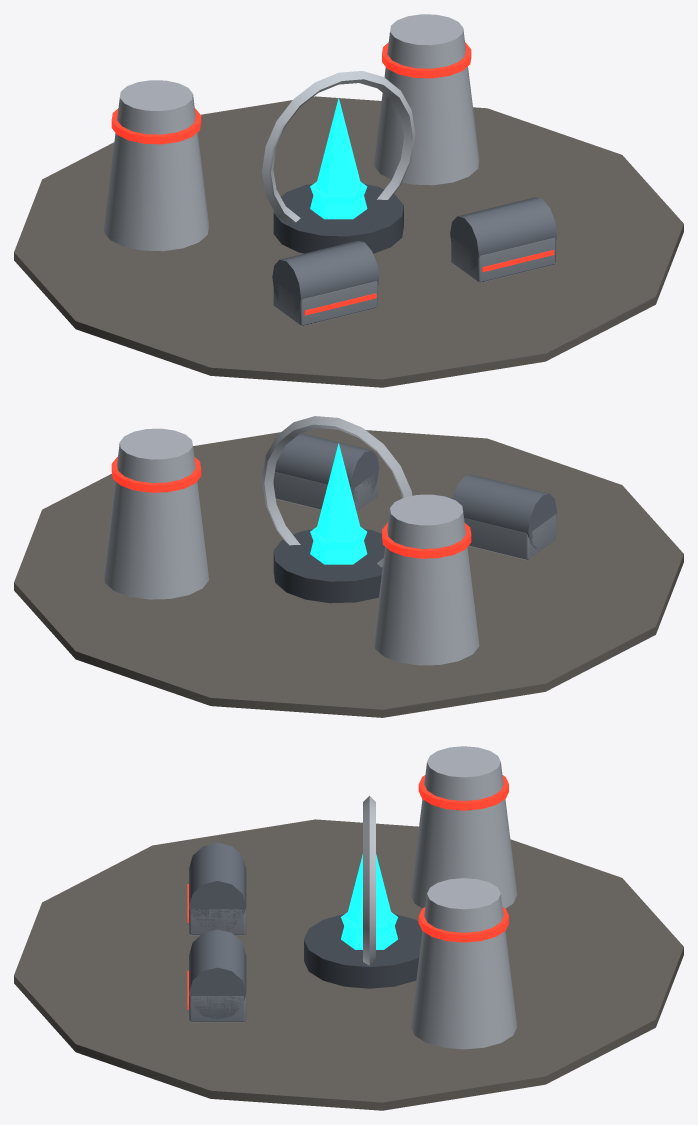
File: district_scifi_c_red.glb
The picture shows the model from 3 angles, top to bottom: view 1: azimuth 30°, elevation 25°; view 2: azimuth 150°, elevation 25°; view 3: azimuth 270°, elevation 25°; orthographic projection.
Visible parts, largest first — view 1: district_scifi_c_red; view 2: district_scifi_c_red; view 3: district_scifi_c_red.
Part boxes in pixels (x1,y1,x2,y2): district_scifi_c_red: [14, 14, 683, 387]; district_scifi_c_red: [14, 416, 683, 717]; district_scifi_c_red: [14, 746, 683, 1110].
Bounding box in the file's own units: 1.63 × 0.506 × 1.63.
Materials: 3 (1 with a texture image).
